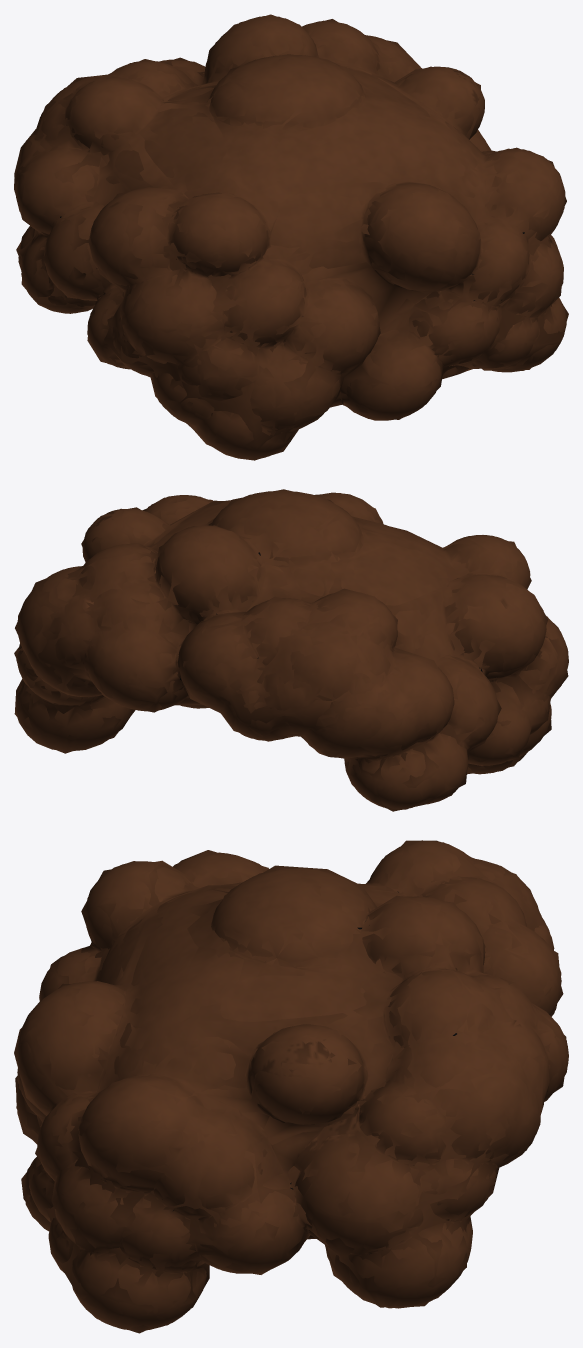
File: curls.glb
3 renders of one model, top to bottom at view 1: azimuth 30°, elevation 25°; view 2: azimuth 150°, elevation 25°; view 3: azimuth 270°, elevation 25°, orthographic. The views are drawn at different scales.
Parts seen in each view (by area): view 1: near, mid, far; view 2: near, mid, far; view 3: near, mid, far.
Boxes of the visible parts, bbox=[...] form: near: bbox=[14, 16, 566, 459]; mid: bbox=[14, 16, 566, 458]; far: bbox=[14, 14, 568, 460]; near: bbox=[15, 491, 568, 809]; mid: bbox=[15, 490, 568, 809]; far: bbox=[14, 489, 568, 811]; near: bbox=[16, 840, 568, 1329]; mid: bbox=[16, 840, 568, 1330]; far: bbox=[14, 840, 566, 1333].
Bounding box in the file's own units: 1.41 × 0.9007 × 1.24.
1 material, 1 textured.
